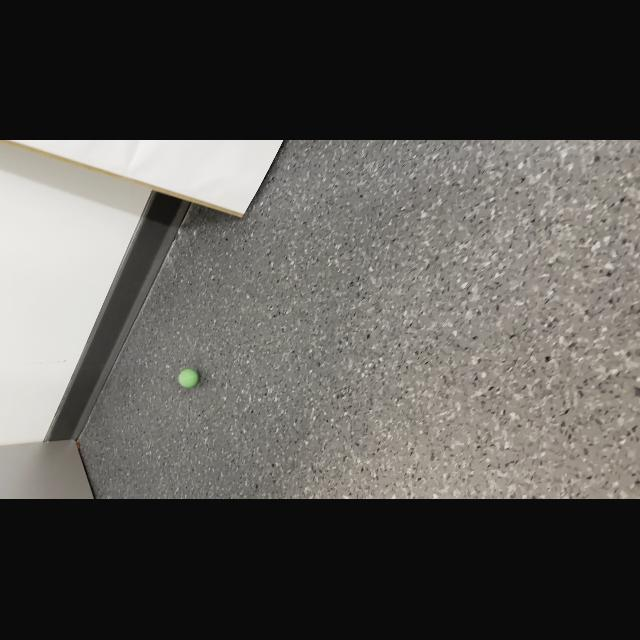objects: (176, 366, 200, 390)
